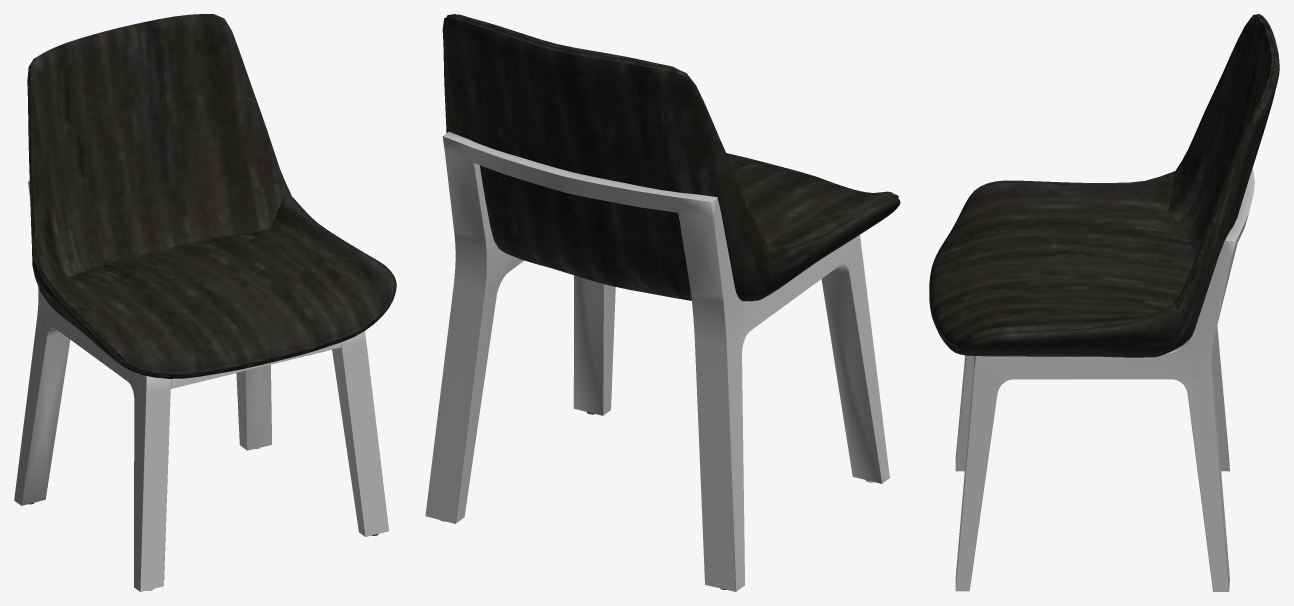
Rendered from Chair3 Dark.fbx.
3 views of the same model, side by side, from view 1: azimuth 30°, elevation 25°; view 2: azimuth 150°, elevation 25°; view 3: azimuth 270°, elevation 25° (orthographic). The views are drawn at different scales.
Parts seen in each view (by area): view 1: instance_0, instance_3, instance_6; view 2: instance_0, instance_3; view 3: instance_0, instance_3.
Boxes of the visible parts, x1,y1,x2,y2 form: instance_0: [27, 14, 396, 378]; instance_3: [14, 181, 388, 591]; instance_6: [170, 342, 341, 388]; instance_0: [442, 14, 900, 301]; instance_3: [425, 132, 889, 591]; instance_0: [929, 14, 1279, 357]; instance_3: [955, 168, 1254, 591].
Bounding box in the file's own units: 55.88 × 78.74 × 53.34.
